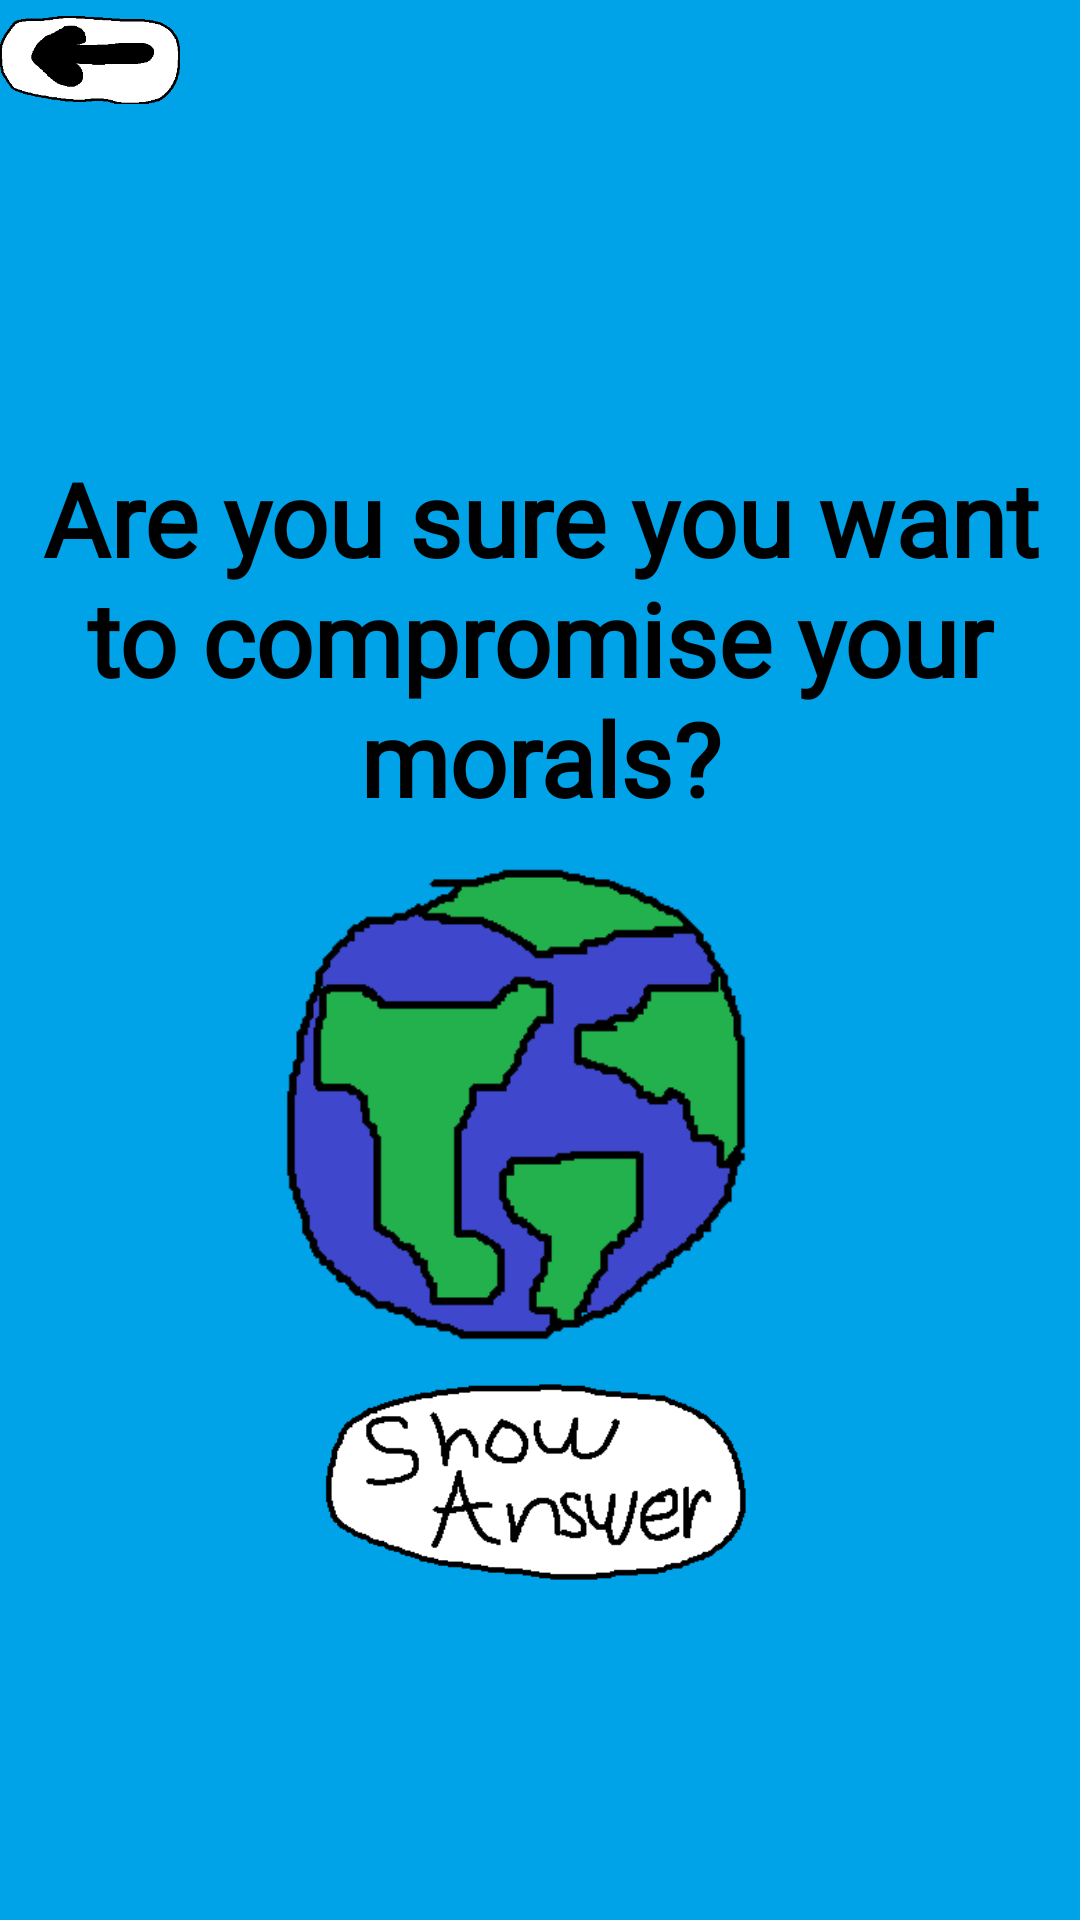

Where icons sit on this 1080px x 1920px app screen, as box(x1, y1, x2, y2):
Previous: box(0, 16, 180, 104)
